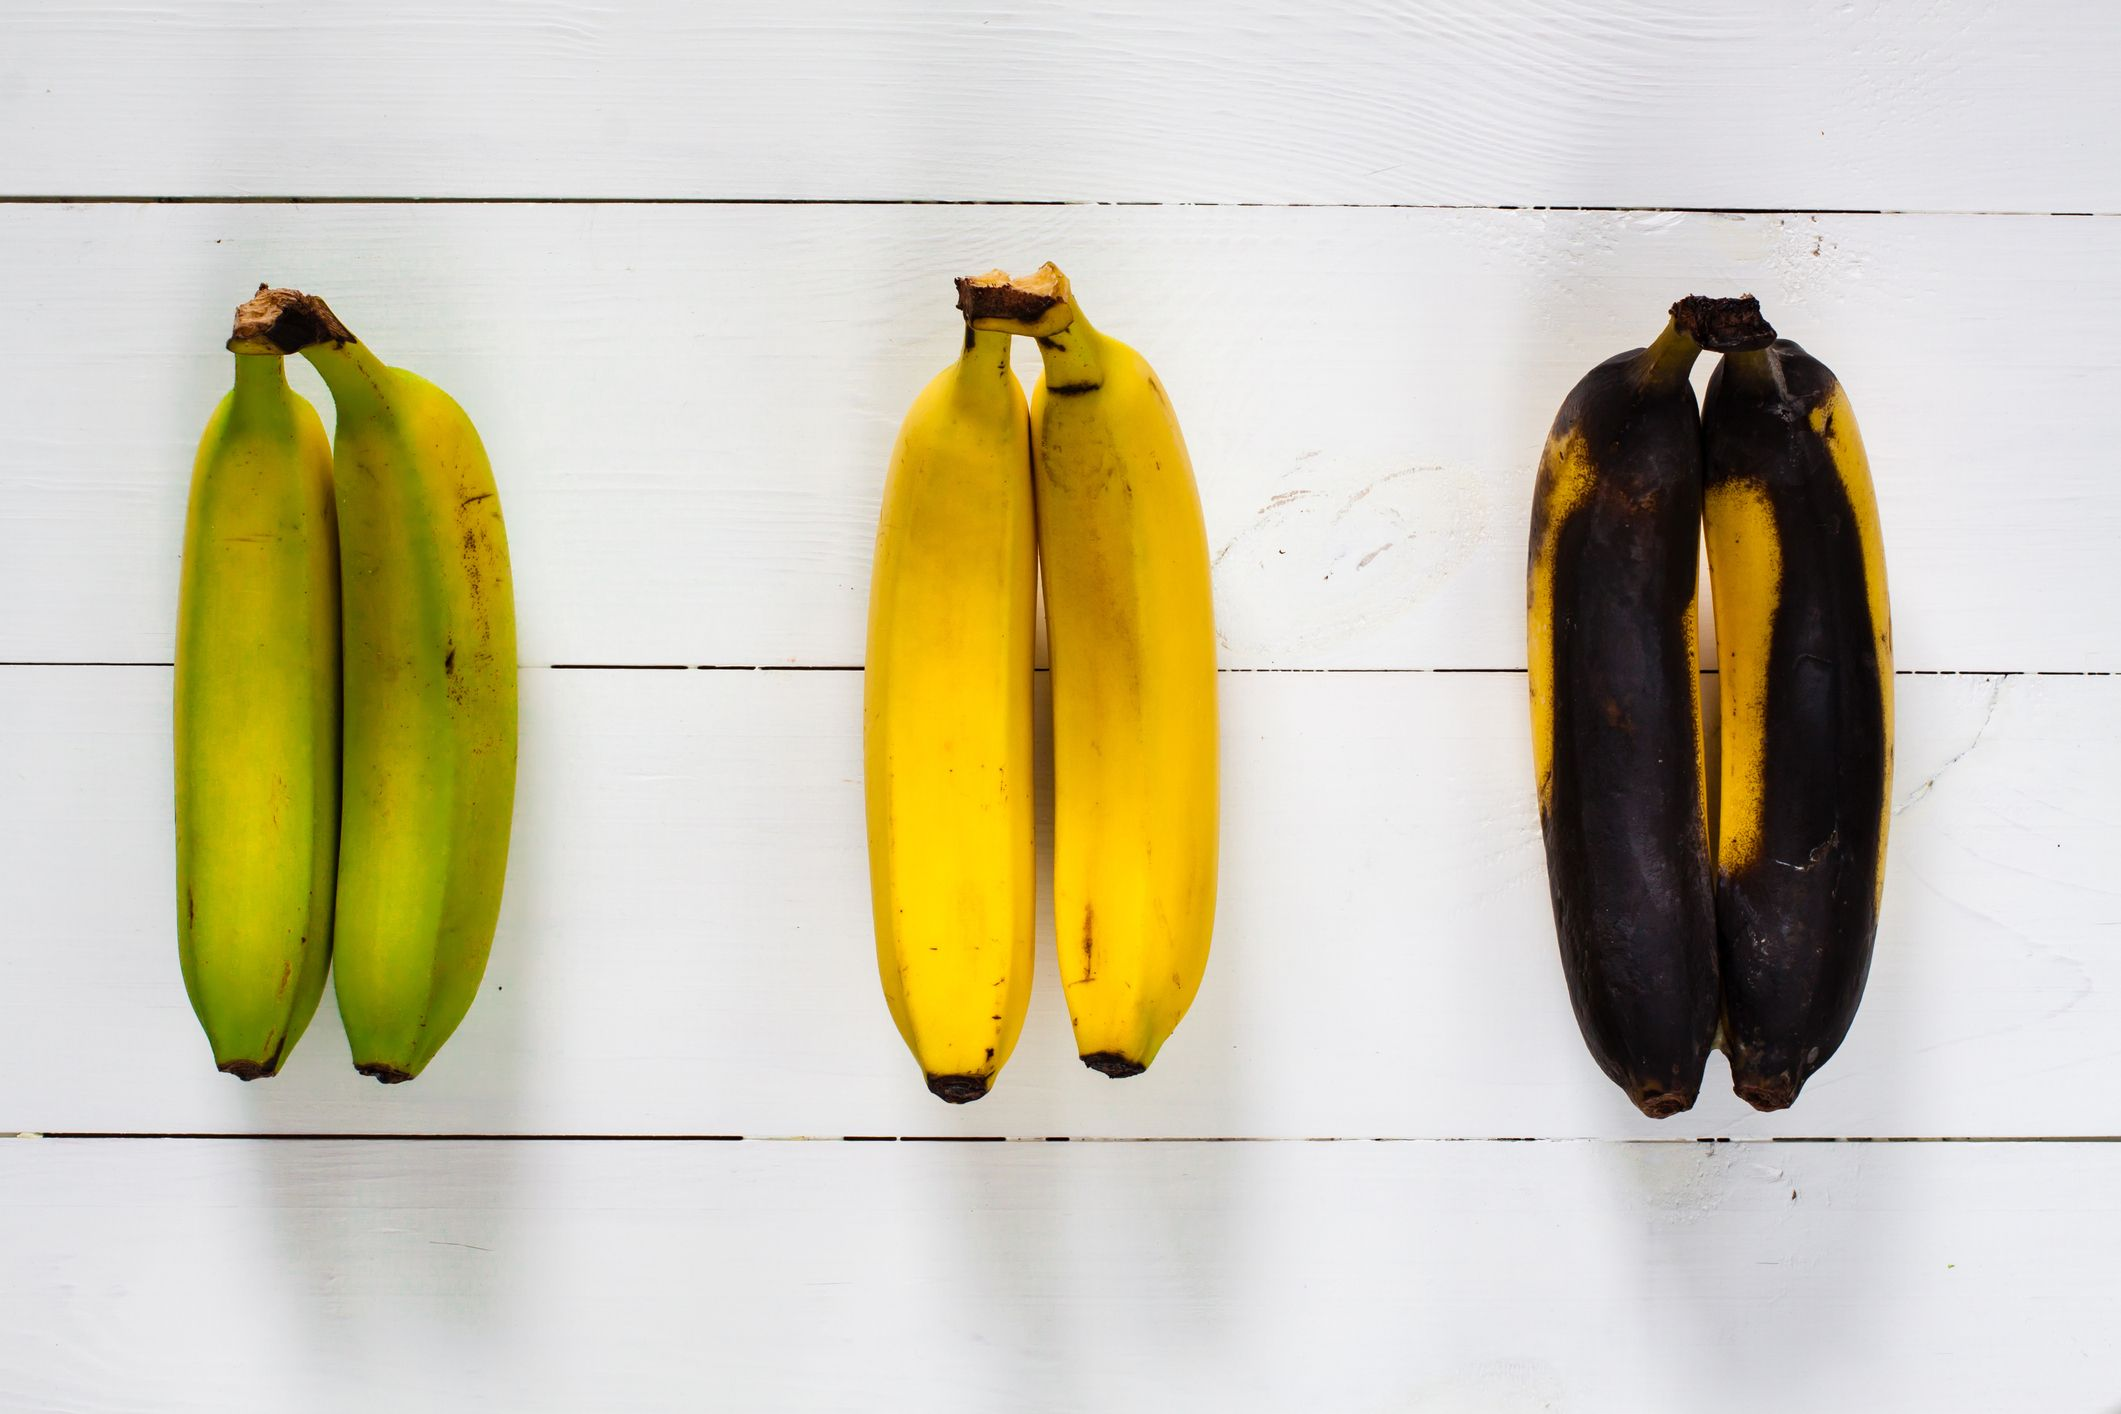banana: (163, 279, 1895, 1113)
